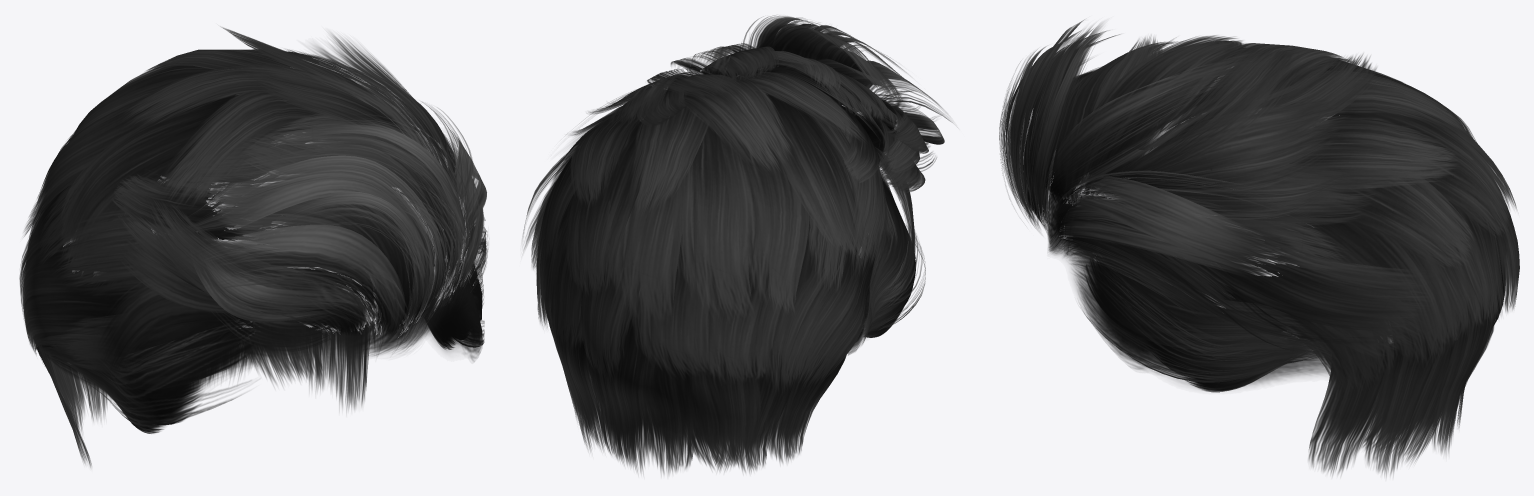
File: Round_Straight_Pompadour.glb
The picture shows the model from 3 angles, left to right: view 1: azimuth 30°, elevation 25°; view 2: azimuth 150°, elevation 25°; view 3: azimuth 270°, elevation 25°; orthographic projection. The views are drawn at different scales.
Visible parts, largest first — view 1: s4studio_mesh_2.001; view 2: s4studio_mesh_2.001; view 3: s4studio_mesh_2.001.
Part boxes in pixels (x1,y1,x2,y2): s4studio_mesh_2.001: [19, 27, 488, 467]; s4studio_mesh_2.001: [522, 15, 952, 474]; s4studio_mesh_2.001: [999, 19, 1519, 476].
Size of the model in its own units: 0.2168 by 0.2222 by 0.2625.
1 material, 1 textured.
